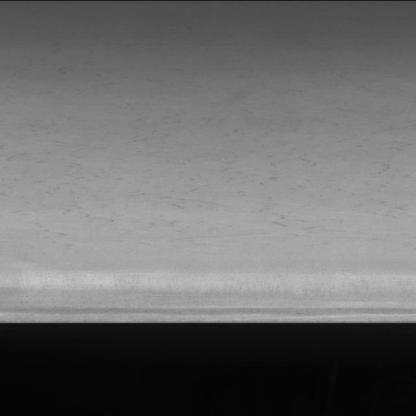silk_spot: (28, 83, 359, 239)
